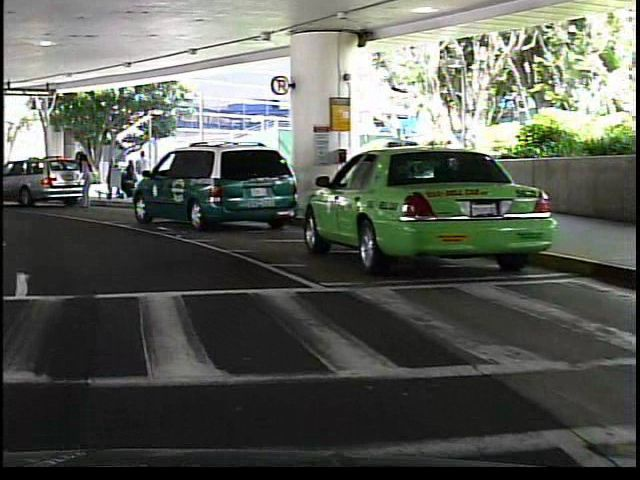person: (73, 150, 92, 208)
